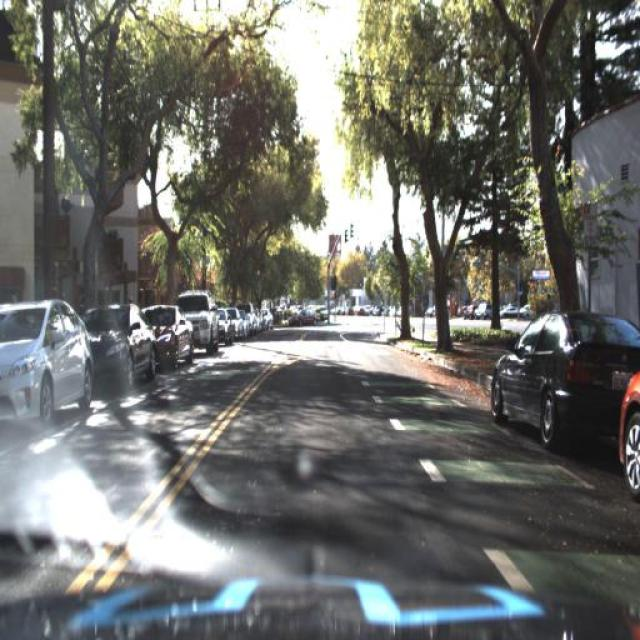car: (478, 302, 628, 461), (1, 300, 93, 436), (89, 288, 162, 403), (82, 299, 154, 390), (152, 294, 196, 374), (617, 363, 640, 504), (187, 290, 219, 358), (216, 302, 230, 346), (230, 307, 240, 344), (314, 302, 332, 321), (351, 302, 368, 322)
